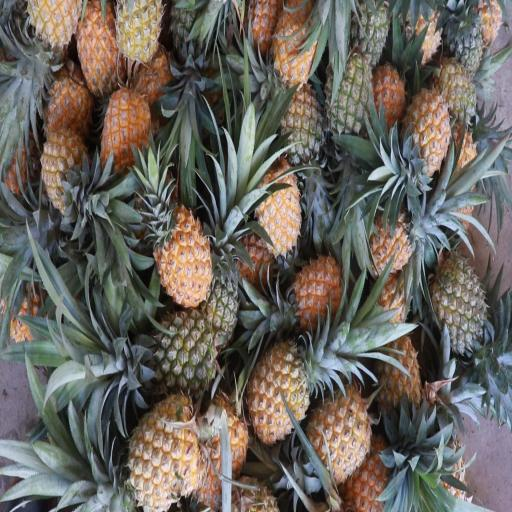------------------------------: (273, 71, 328, 175), (427, 56, 483, 142)
Pineapple - v8 v1: (119, 379, 203, 511), (300, 381, 374, 496), (188, 364, 248, 504), (242, 322, 313, 438), (146, 186, 212, 299), (365, 306, 422, 431), (248, 143, 303, 258), (284, 226, 344, 331), (93, 63, 149, 175), (342, 423, 410, 512), (398, 86, 453, 190), (360, 182, 418, 274), (38, 114, 92, 212), (262, 0, 318, 94), (42, 63, 98, 151), (72, 0, 116, 105), (110, 0, 171, 65)
